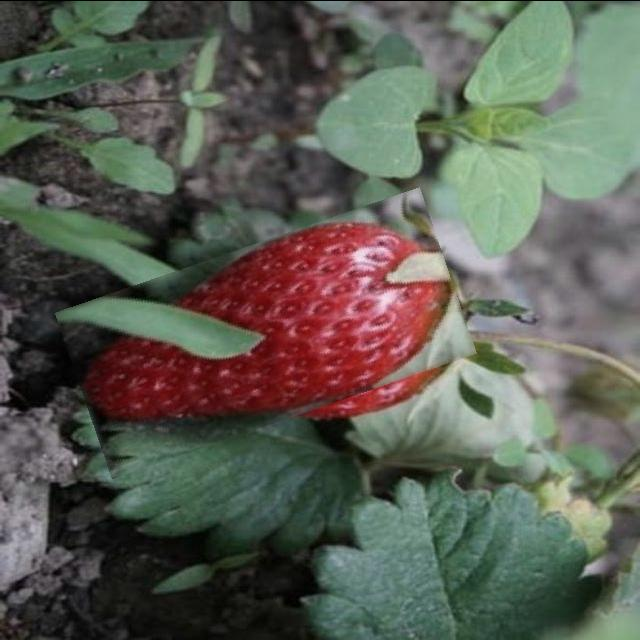strawberry: (64, 215, 468, 449)
